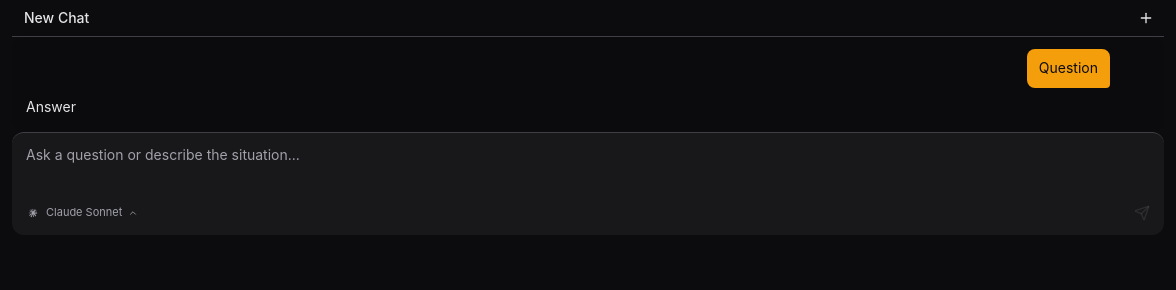
it: AIChatPanel scroll behavior › anchors a submitted user turn near 24 percent while FOLLOWING
Type "Fresh follow-up" into the text box at (588, 162), box [12, 132, 1164, 192]
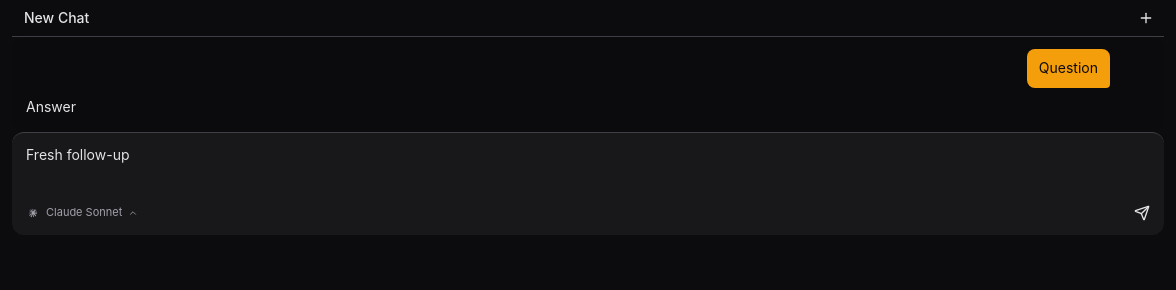
Click the button titled "Send message" at (1142, 212), box [1128, 198, 1156, 226]
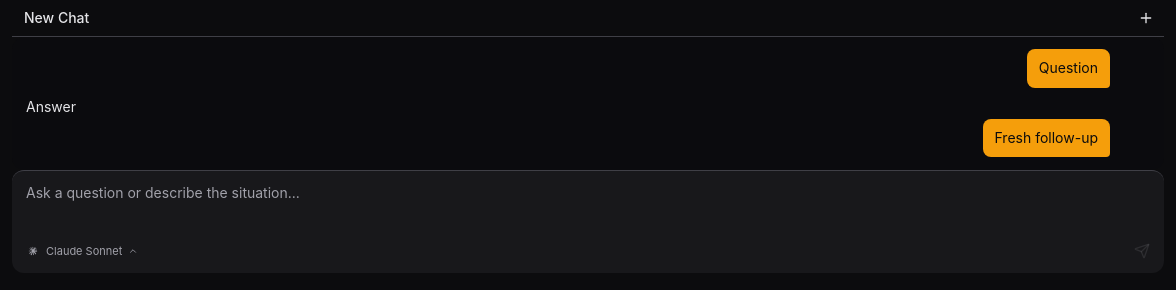
Expected: the text "Fresh follow-up" is shown, [982, 118, 1110, 157]
